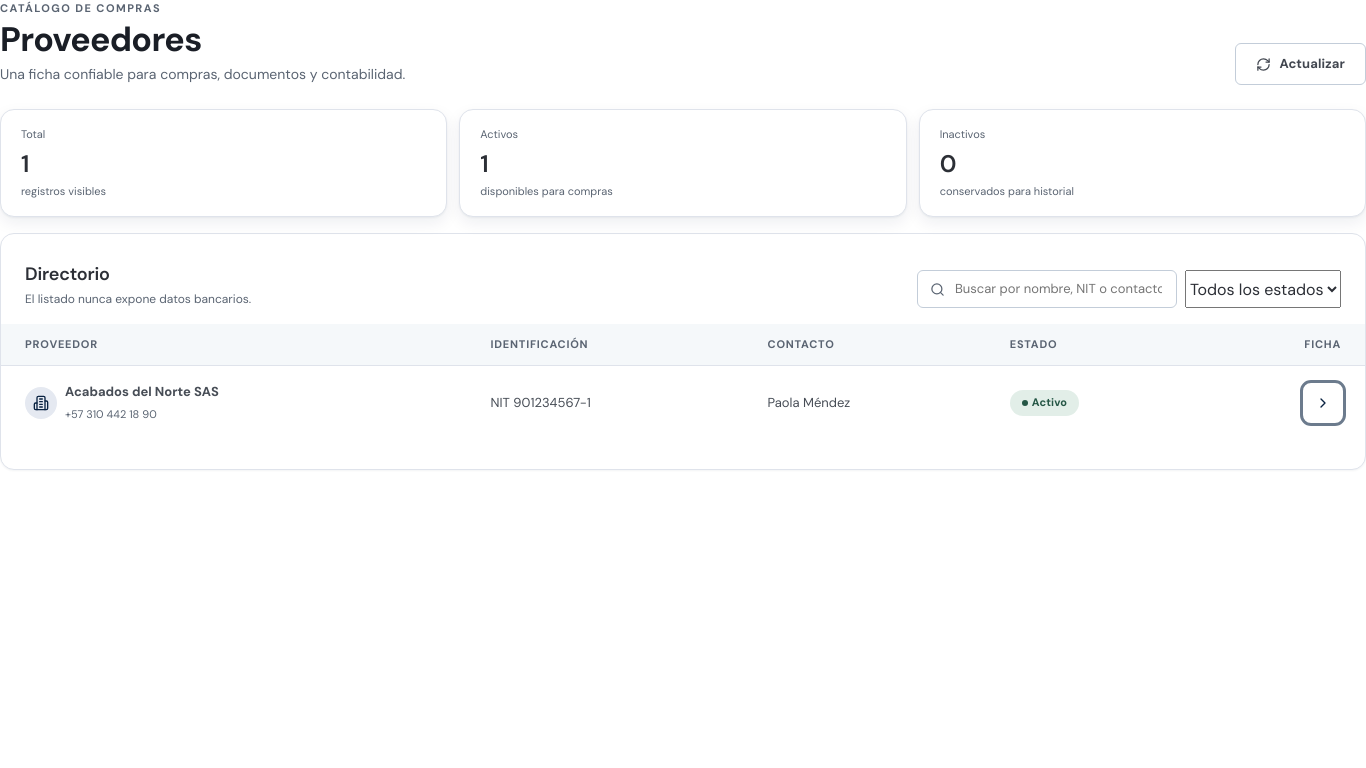
Test: SuppliersScreen › uses API capabilities for accounting read-only and bank visibility
Expected: the text "Acabados del Norte SAS" is shown, x1=65 y1=383 x2=219 y2=400
Click the button named "Abrir ficha de Acabados" at point(1323, 403), box x1=1305 y1=385 x2=1341 y2=421
(page scrolled)
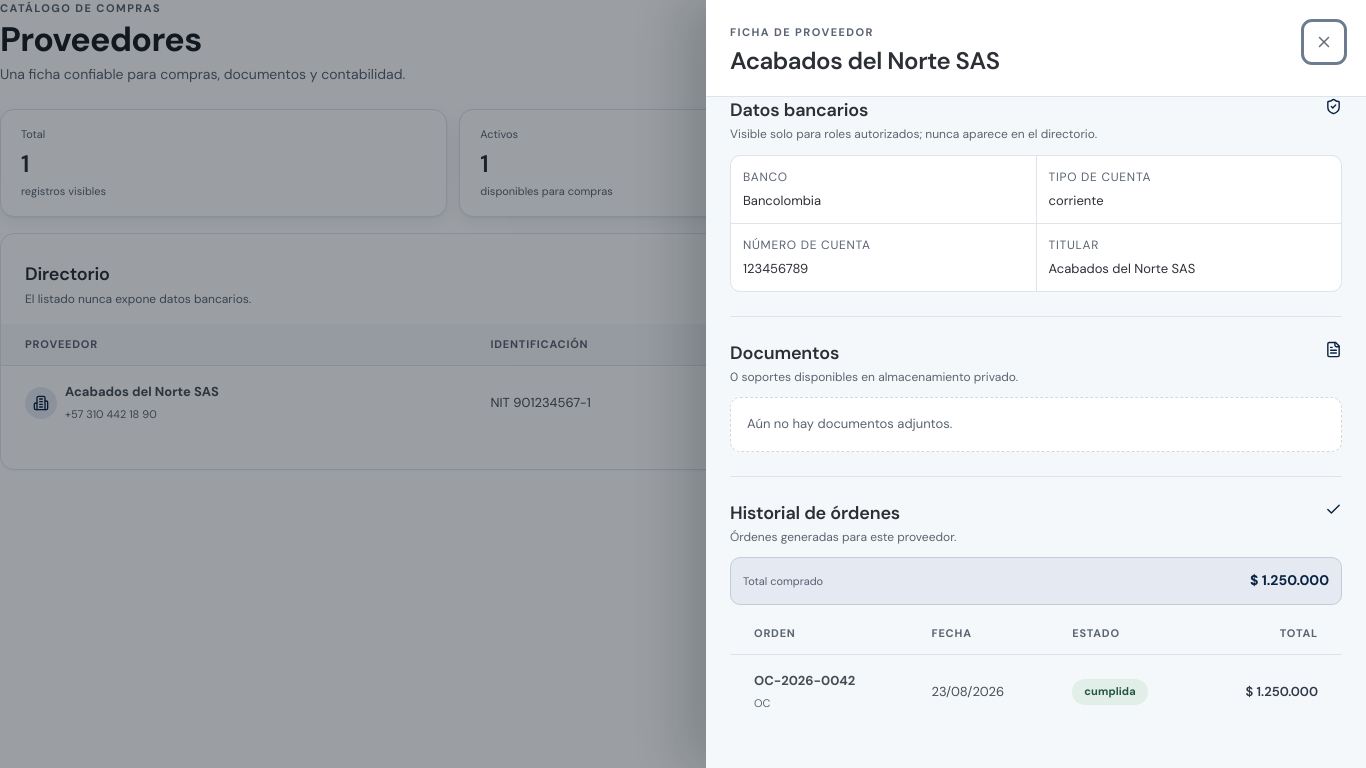
Now the dialog "Acabados del Norte" is shown, box x1=706 y1=0 x2=1365 y2=767
Now the text "Bancolombia" is shown, box x1=743 y1=192 x2=821 y2=209
Now the text "Total comprado" is shown, box x1=743 y1=573 x2=823 y2=590
Press Escape
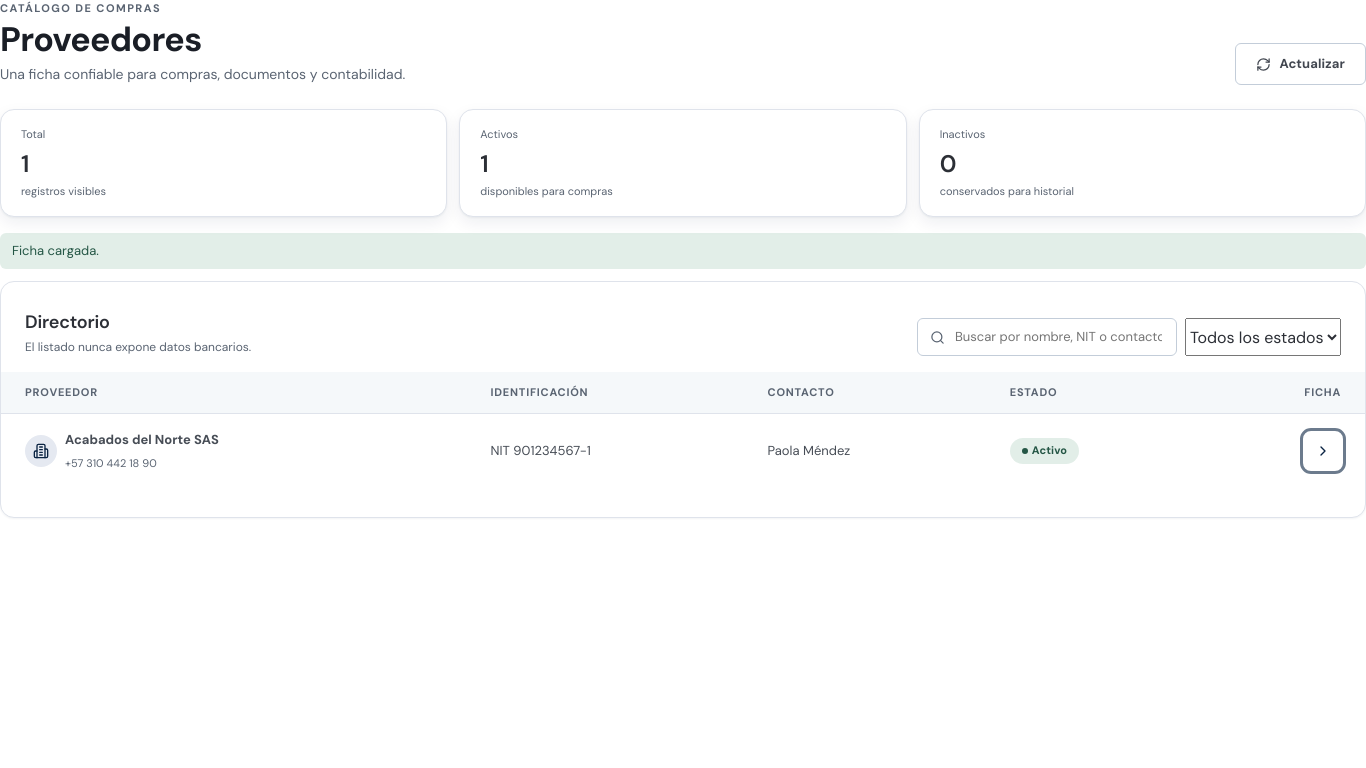
Now the dialog is gone
